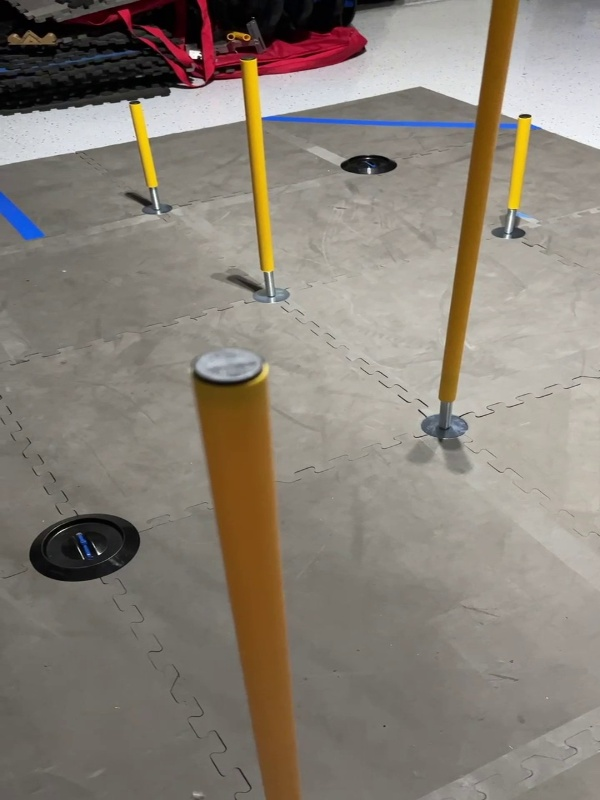top: (182, 346, 272, 392)
